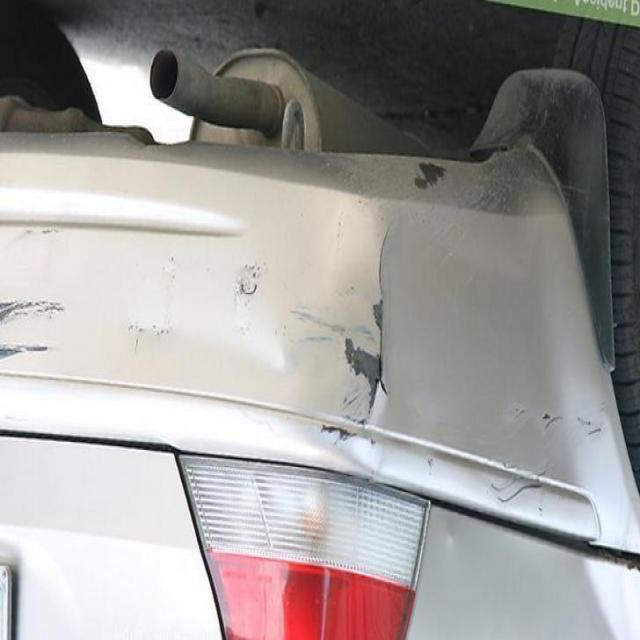scratch: (298, 226, 398, 452), (0, 272, 55, 369), (396, 152, 452, 202)
